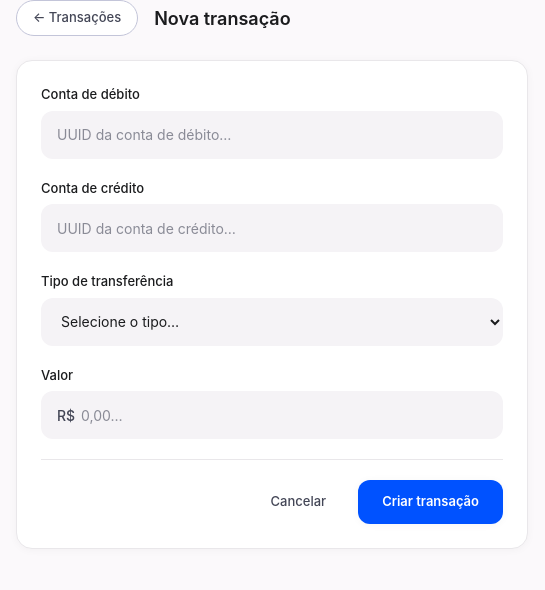
Test: web/CreateTransactionView — TI-04 › mapeia erros de campo da API e preserva o preenchimento
Type "0199f9c2-1a2b-7c8d-9e0f-100000000001" into the field labelled "Conta de débito" at (272, 134), box [41, 110, 503, 158]
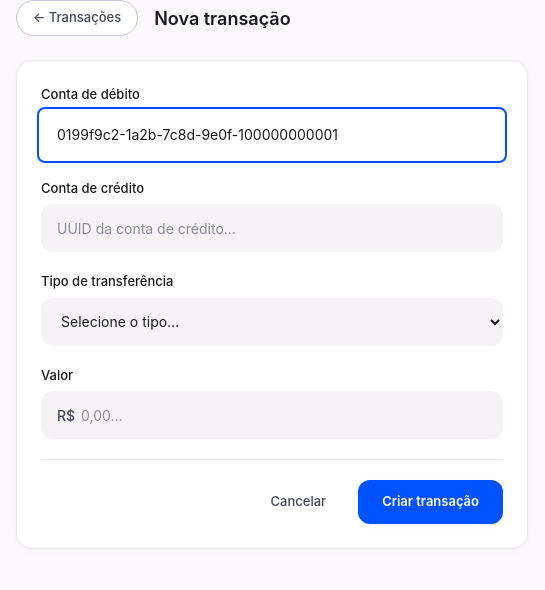
Type "0199f9c2-1a2b-7c8d-9e0f-200000000002" into the field labelled "Conta de crédito" at (272, 228), box [41, 204, 503, 252]
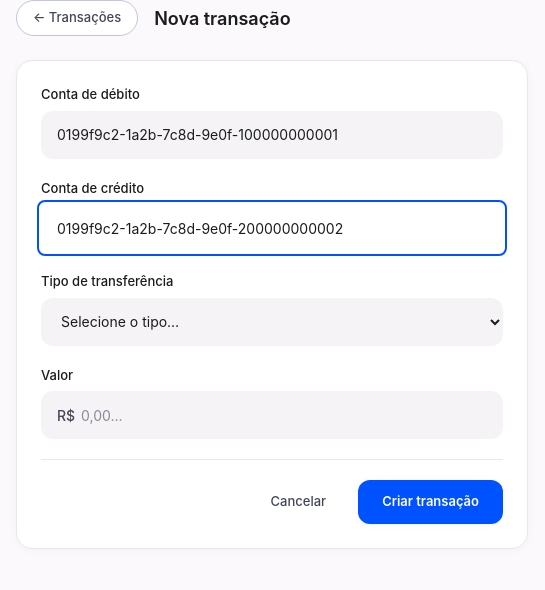
Select "Pix" in the dropdown labelled "Tipo de transferência" at (272, 322), box [41, 298, 503, 346]
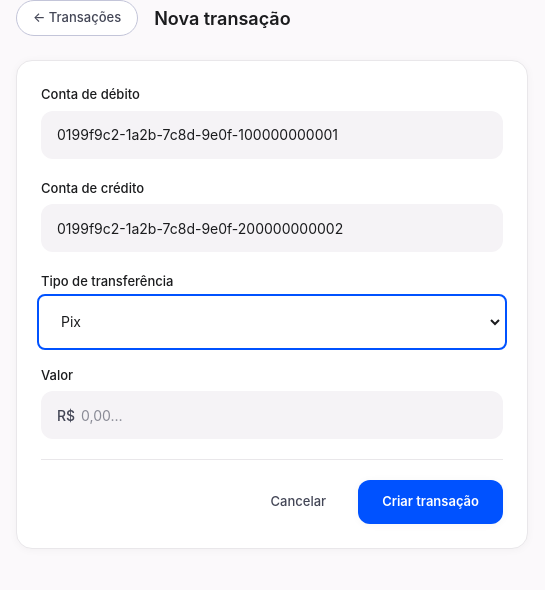
Type "1000" into the field labelled "Valor" at (272, 415), box [41, 391, 503, 439]
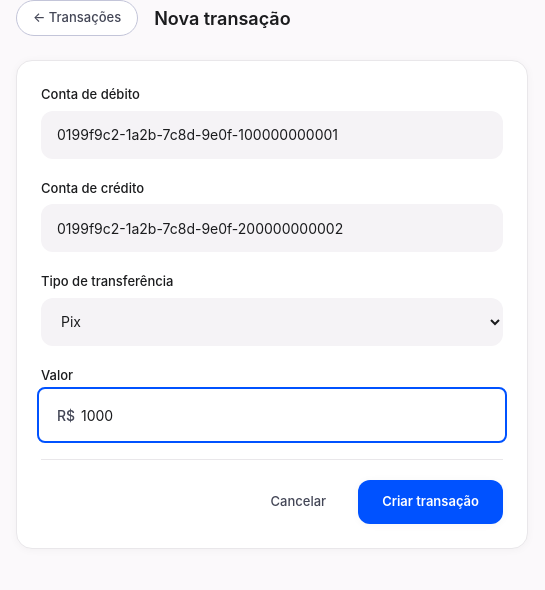
Click the button "Criar transação" at (431, 502), box [358, 480, 503, 524]
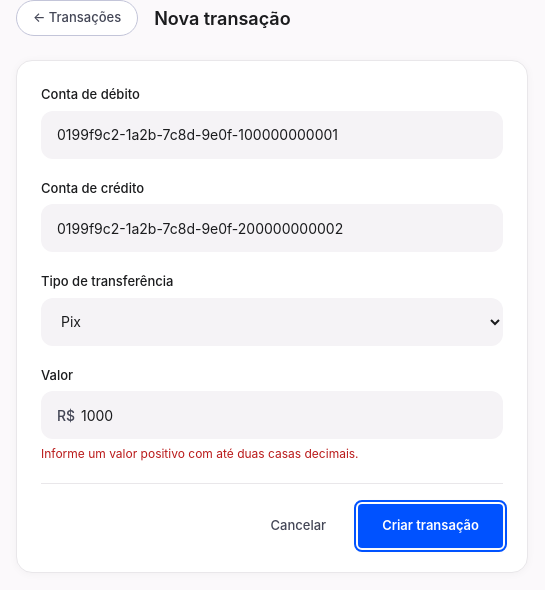
Now the message shows "duas casas decimais", box [41, 446, 359, 461]
